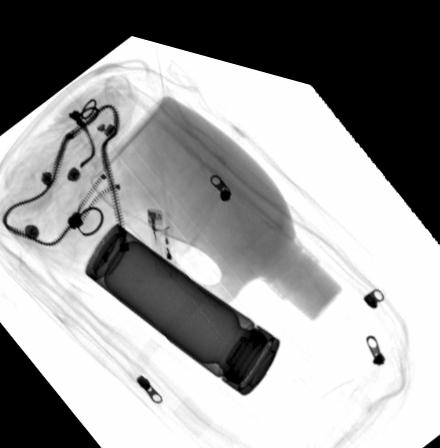Lighter: (145, 199, 175, 269)
